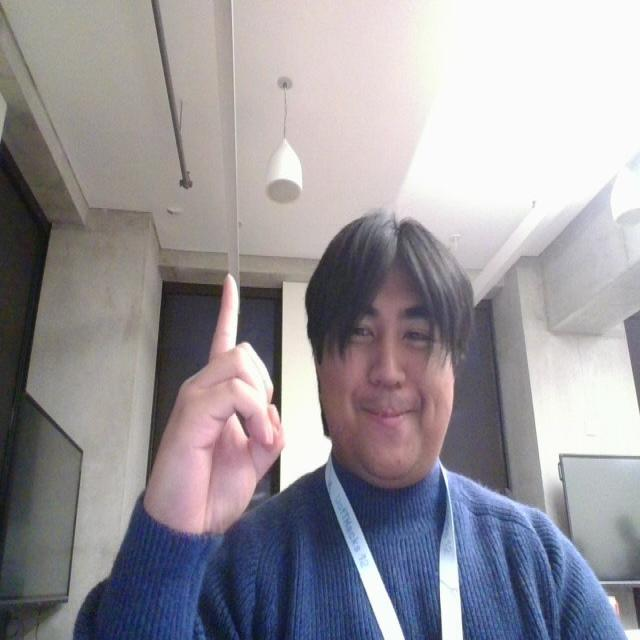Dsign: (144, 274, 284, 536)
